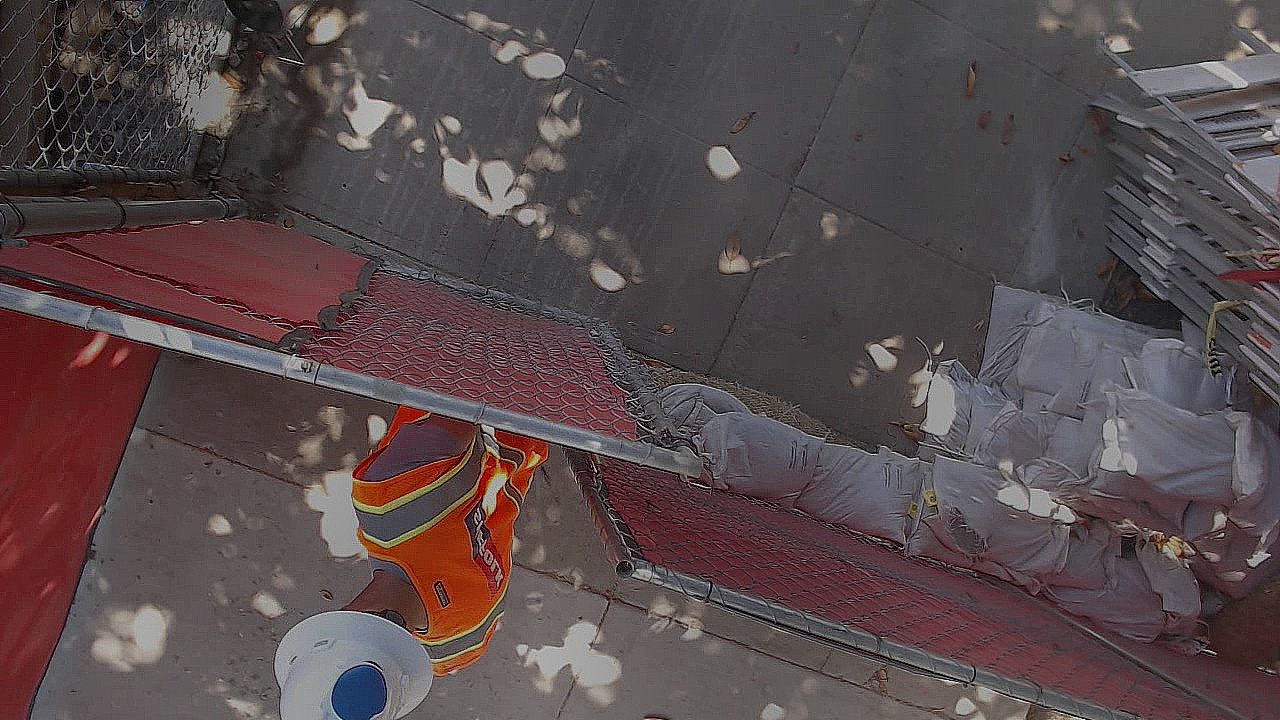blue: (327, 666, 385, 719)
hardhat: (270, 609, 434, 719)
person: (271, 441, 548, 719)
safetyvest: (349, 397, 548, 678)
